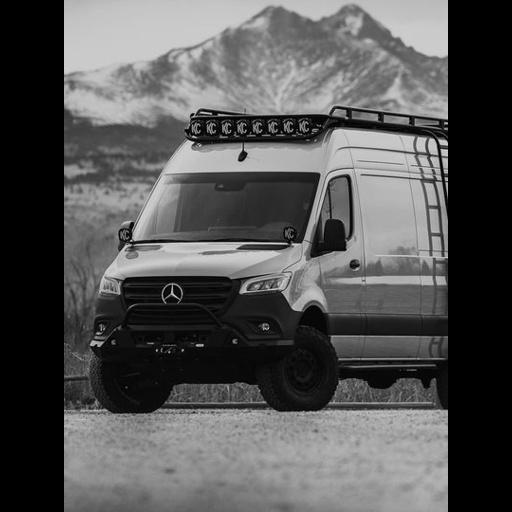van: (92, 107, 449, 411)
